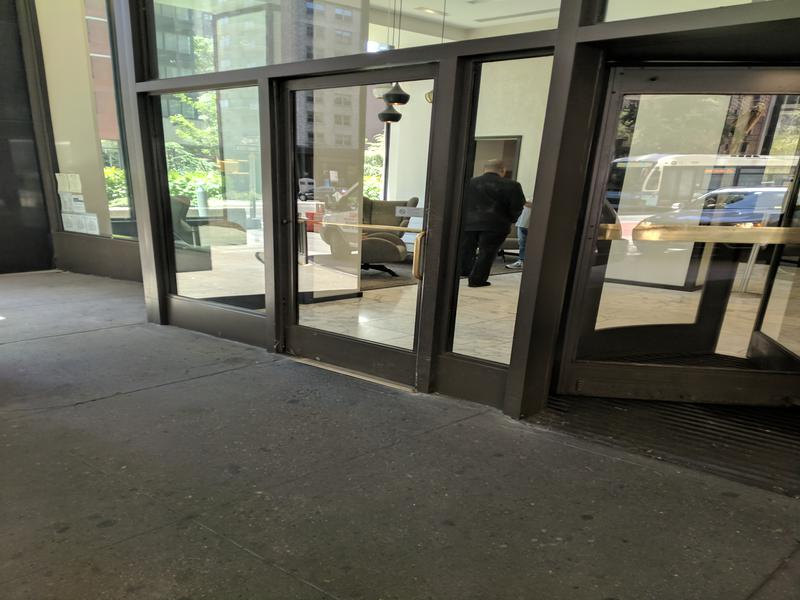door: (270, 68, 442, 387)
